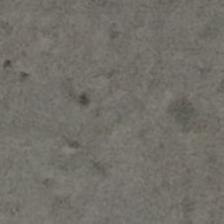Non_Crack: (11, 7, 216, 208)
